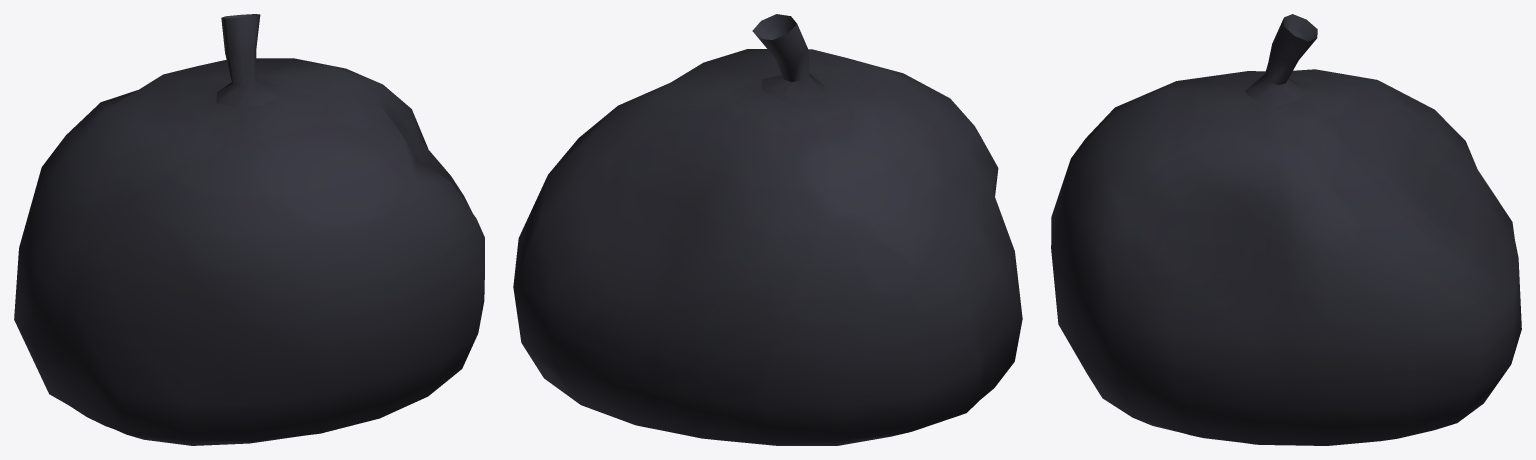
Rendered from trash bag.fbx.
The picture shows the model from 3 angles, left to right: view 1: azimuth 30°, elevation 25°; view 2: azimuth 150°, elevation 25°; view 3: azimuth 270°, elevation 25°; orthographic projection.
Parts seen in each view (by area): view 1: Trash bag; view 2: Trash bag; view 3: Trash bag.
Part boxes in pixels (bbox=[...]): Trash bag: bbox=[14, 14, 484, 445]; Trash bag: bbox=[513, 14, 1022, 445]; Trash bag: bbox=[1051, 14, 1521, 445].
Size of the model in its own units: 1.35 by 1.15 by 1.34.
Materials: 1 (1 with a texture image).
